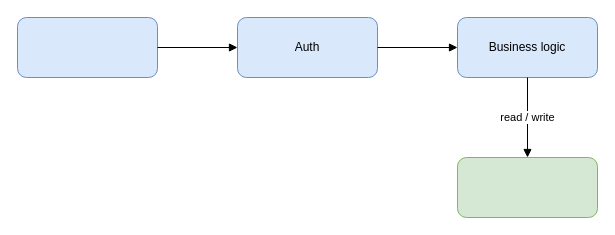
Some shapes in this 615 by 235 pixel diagram are drawn without their labels. Each missing label, with the box of its shape:
API gateway: (16, 16, 158, 78)
Database: (456, 156, 598, 218)
